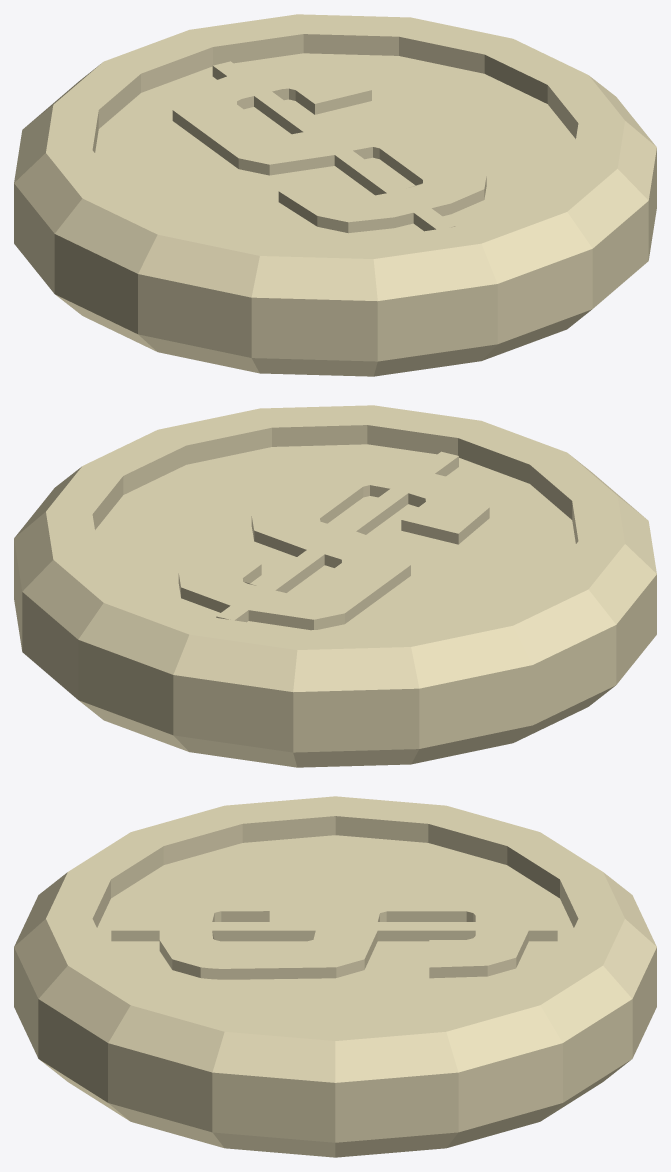
Rendered from coin_new.glb.
The picture shows the model from 3 angles, top to bottom: view 1: azimuth 30°, elevation 25°; view 2: azimuth 150°, elevation 25°; view 3: azimuth 270°, elevation 25°; orthographic projection.
Parts seen in each view (by area): view 1: Coin_New; view 2: Coin_New; view 3: Coin_New.
Boxes of the visible parts, <box> form: Coin_New: <box>14,14,656,376</box>; Coin_New: <box>14,405,656,767</box>; Coin_New: <box>14,796,656,1157</box>.
Size of the model in its own units: 2 by 0.4 by 2.
